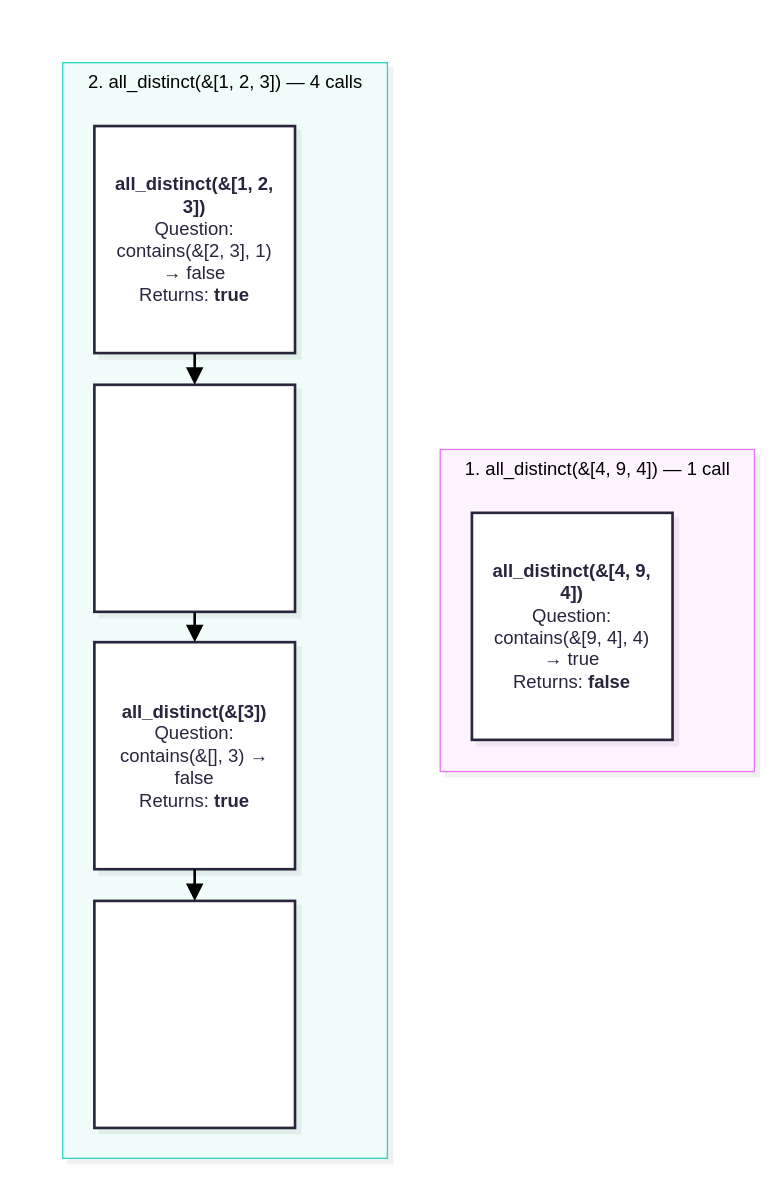
Image size: 783x1187. Some labels were removed from this diagram. The shapes that lost their labels are listed below. From the top down, each one's centre as x and y in pixels, then its label:
(x=196, y=500): all_distinct(&[2, 3]) Question: contains(&[3], 2) → false Returns: true
(x=196, y=1016): all_distinct(&[]) Question: none (base case: empty) Returns: true
